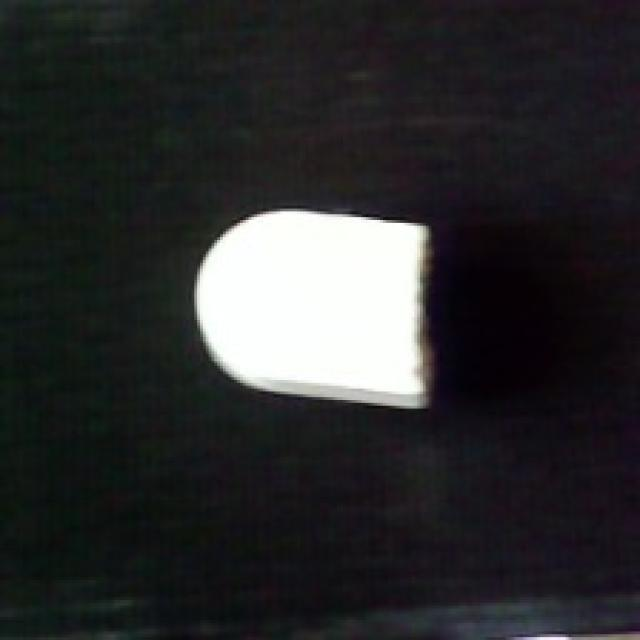defected: (191, 200, 446, 411)
